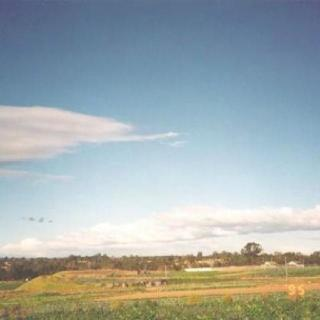Stratocumulus: (3, 198, 320, 254), (0, 101, 201, 167)
